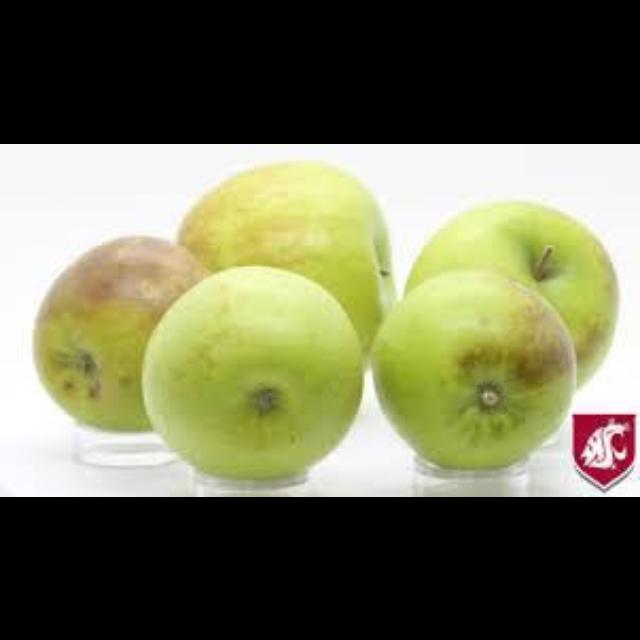apple: (142, 266, 365, 478), (178, 162, 394, 353), (371, 270, 574, 469), (405, 200, 617, 387)
